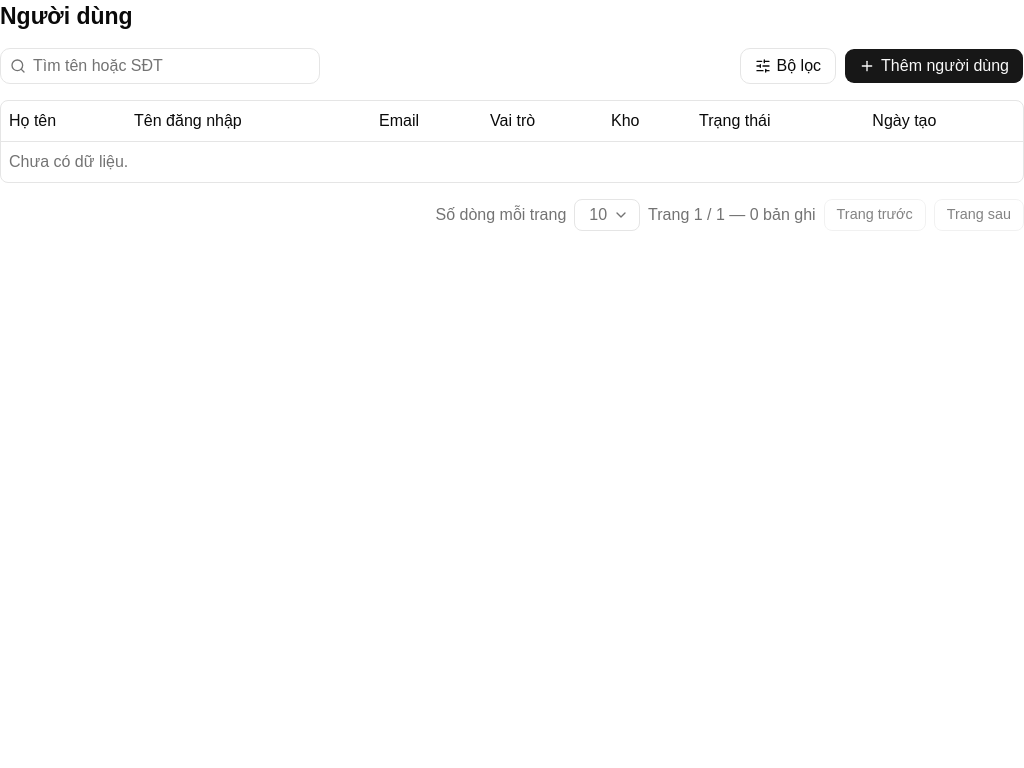
Test case: UsersPage — break-ui › popover Bộ lọc: vai trò (3 lựa chọn → nút), trạng thái, kho tên rất dài, ngày tạo
Step 1. Click the button "Bộ lọc" → point(788, 66), box [740, 48, 836, 84]
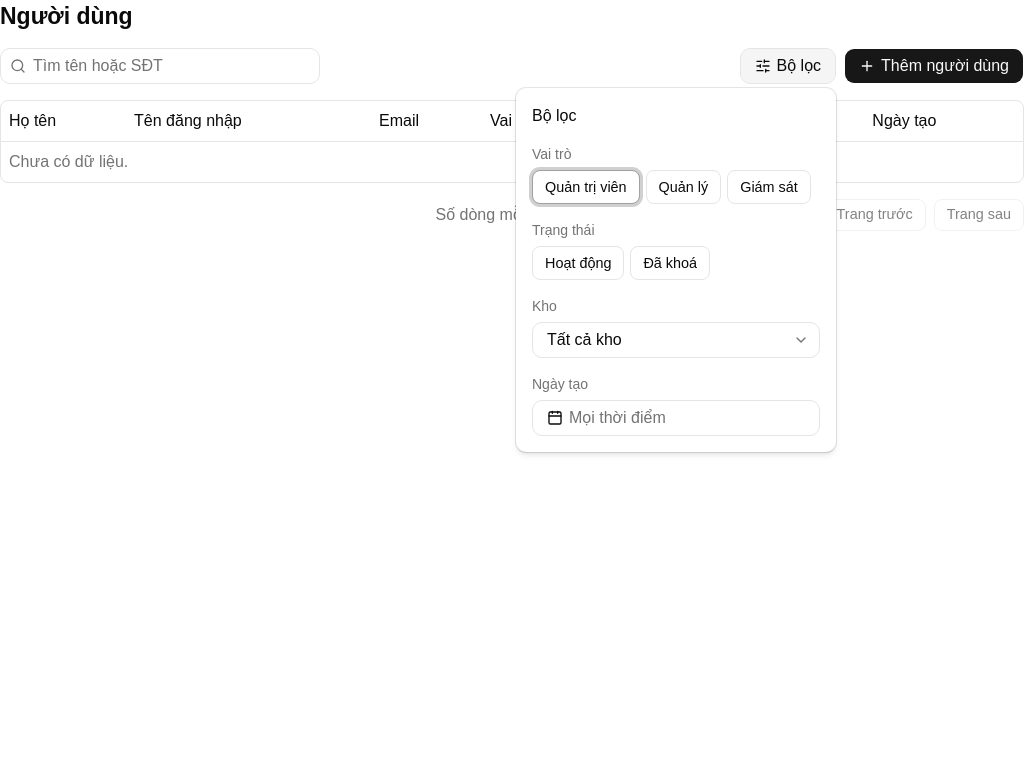
Check: the button "Hoạt động" is shown, box [532, 246, 624, 280]
